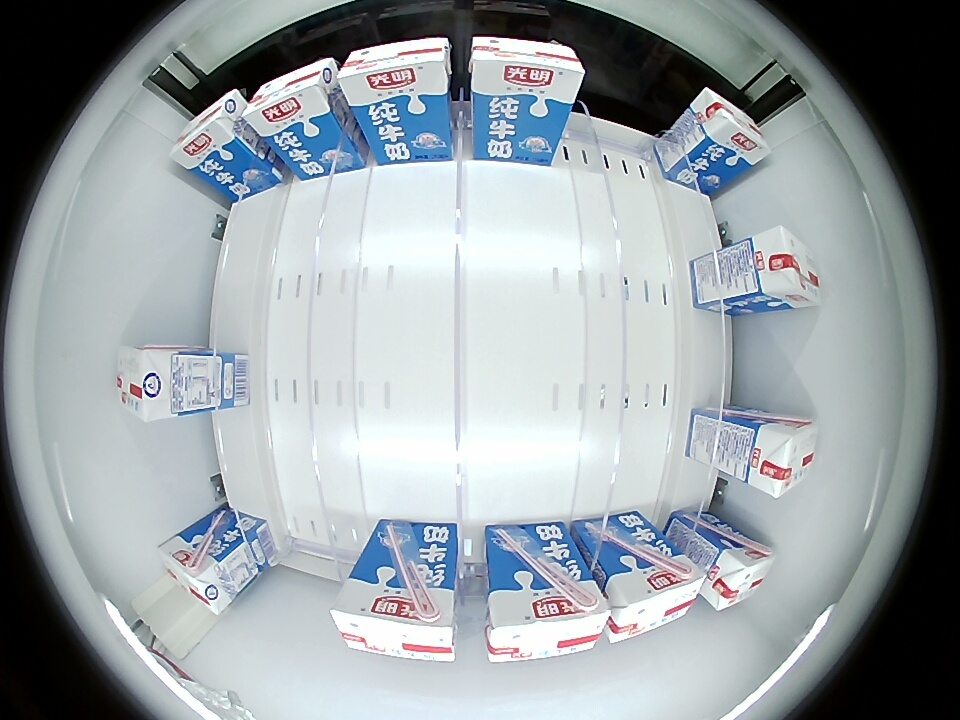niunai: (330, 578, 454, 663), (485, 583, 610, 663), (470, 36, 583, 117), (339, 37, 450, 117), (605, 554, 703, 644), (243, 56, 340, 139), (171, 88, 249, 174), (158, 532, 236, 616), (689, 88, 769, 168), (749, 225, 822, 311), (748, 414, 818, 498), (117, 345, 184, 422), (706, 538, 776, 611)
